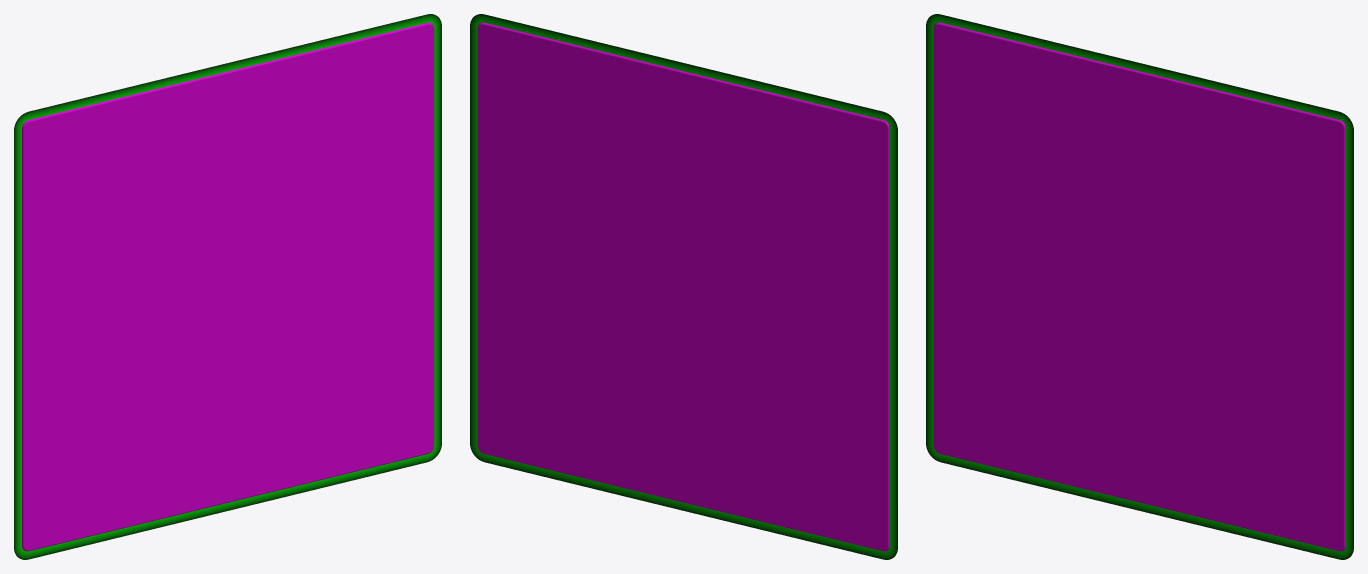
The model's file is Glass Panel.fbx.
3 views of the same model, side by side, from view 1: azimuth 30°, elevation 25°; view 2: azimuth 150°, elevation 25°; view 3: azimuth 330°, elevation 25° (orthographic).
Visible parts, largest first — view 1: Glass Panel; view 2: Glass Panel; view 3: Glass Panel.
Boxes of the visible parts, box(x1,y1,x2,y2) form: Glass Panel: box(14, 14, 441, 559); Glass Panel: box(470, 14, 897, 559); Glass Panel: box(926, 14, 1353, 559).
Bounding box in the file's own units: 208 × 208 × 1.5.
